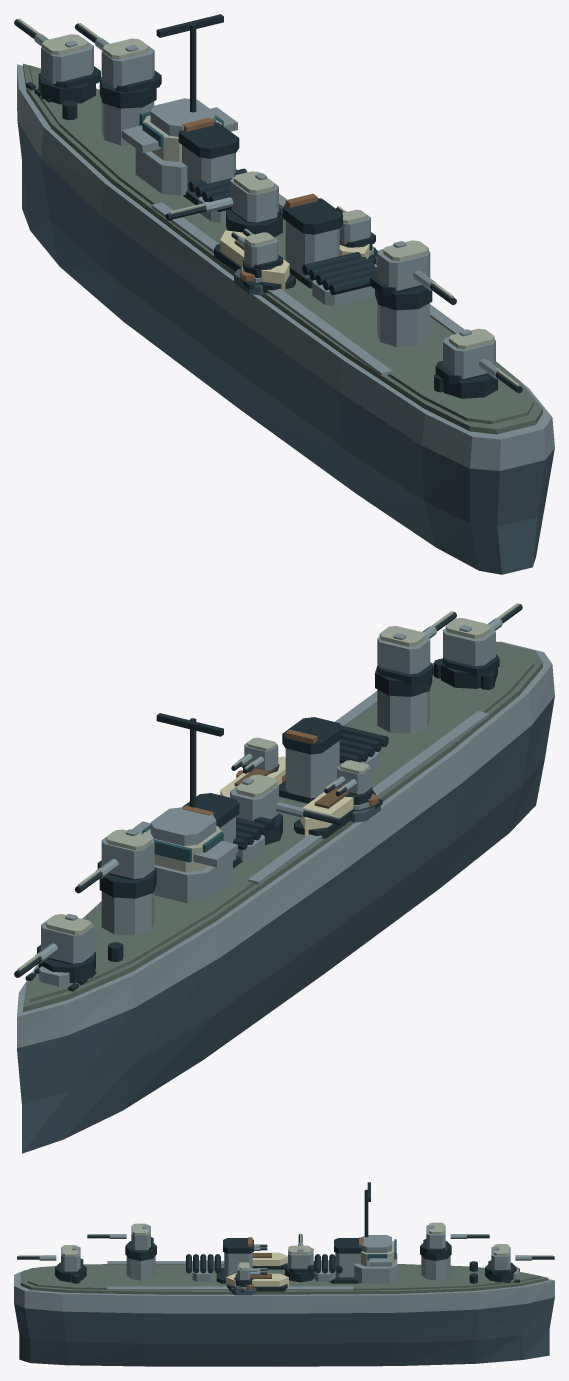
The model's file is historic-benson.glb.
3 views of the same model, one above another, from view 1: azimuth 30°, elevation 25°; view 2: azimuth 150°, elevation 25°; view 3: azimuth 270°, elevation 25° (orthographic). The views are drawn at different scales.
Parts seen in each view (by area): view 1: historic-benson-historic-benson-geometry, historic-benson-part_bridge.130-geometry, historic-benson-turret_main_1.092-geometry, historic-benson-turret_main_3.053-geometry, historic-benson-turret_main_0.099-geometry, historic-benson-turret_main_4.018-geometry, historic-benson-historic_funnel_1.068-geometry, historic-benson-turret_main_2.078-geometry, historic-benson-historic_funnel_0.123-geometry, historic-benson-torpedo_bank_0.039-geometry, historic-benson-turret_aa_aa-port.132-geometry, historic-benson-turret_aa_aa-starboard.128-geometry (+1 smaller); view 2: historic-benson-historic-benson-geometry, historic-benson-part_bridge.130-geometry, historic-benson-historic_funnel_1.068-geometry, historic-benson-turret_main_3.053-geometry, historic-benson-turret_main_1.092-geometry, historic-benson-turret_main_4.018-geometry, historic-benson-turret_main_0.099-geometry, historic-benson-turret_main_2.078-geometry, historic-benson-historic_funnel_0.123-geometry, historic-benson-torpedo_bank_0.039-geometry, historic-benson-turret_aa_aa-port.132-geometry, historic-benson-torpedo_bank_1.036-geometry (+1 smaller); view 3: historic-benson-historic-benson-geometry, historic-benson-part_bridge.130-geometry, historic-benson-historic_funnel_0.123-geometry, historic-benson-turret_main_1.092-geometry, historic-benson-turret_main_3.053-geometry, historic-benson-turret_main_0.099-geometry, historic-benson-turret_main_4.018-geometry, historic-benson-historic_funnel_1.068-geometry, historic-benson-turret_main_2.078-geometry, historic-benson-torpedo_bank_0.039-geometry, historic-benson-torpedo_bank_1.036-geometry, historic-benson-turret_aa_aa-starboard.128-geometry.
Boxes of the visible parts, x1,y1,x2,y2 form: historic-benson-historic-benson-geometry: (17,63,554,574); historic-benson-part_bridge.130-geometry: (121,14,237,195); historic-benson-turret_main_1.092-geometry: (74,23,161,108); historic-benson-turret_main_3.053-geometry: (370,240,456,310); historic-benson-turret_main_0.099-geometry: (14,18,100,104); historic-benson-turret_main_4.018-geometry: (435,328,522,398); historic-benson-historic_funnel_1.068-geometry: (282,193,342,288); historic-benson-turret_main_2.078-geometry: (165,171,282,236); historic-benson-historic_funnel_0.123-geometry: (178,117,239,204); historic-benson-torpedo_bank_0.039-geometry: (302,252,377,305); historic-benson-turret_aa_aa-port.132-geometry: (231,229,283,277); historic-benson-turret_aa_aa-starboard.128-geometry: (336,206,375,250); historic-benson-historic-benson-geometry: (17,641,554,1153); historic-benson-part_bridge.130-geometry: (132,713,237,903); historic-benson-historic_funnel_1.068-geometry: (279,717,342,803); historic-benson-turret_main_3.053-geometry: (375,611,456,696); historic-benson-turret_main_1.092-geometry: (74,829,156,898); historic-benson-turret_main_4.018-geometry: (441,603,522,688); historic-benson-turret_main_0.099-geometry: (14,914,95,983); historic-benson-turret_main_2.078-geometry: (230,774,343,845); historic-benson-historic_funnel_0.123-geometry: (182,793,242,868); historic-benson-torpedo_bank_0.039-geometry: (339,725,388,772); historic-benson-turret_aa_aa-port.132-geometry: (324,760,372,804); historic-benson-torpedo_bank_1.036-geometry: (233,817,274,860); historic-benson-historic-benson-geometry: (14,1252,554,1366); historic-benson-part_bridge.130-geometry: (354,1182,397,1283); historic-benson-historic_funnel_0.123-geometry: (329,1237,363,1283); historic-benson-turret_main_1.092-geometry: (420,1222,489,1260); historic-benson-turret_main_3.053-geometry: (87,1223,156,1260); historic-benson-turret_main_0.099-geometry: (485,1244,554,1282); historic-benson-turret_main_4.018-geometry: (17,1245,86,1282); historic-benson-historic_funnel_1.068-geometry: (216,1237,253,1283); historic-benson-turret_main_2.078-geometry: (285,1233,314,1282); historic-benson-torpedo_bank_0.039-geometry: (186,1254,220,1281); historic-benson-torpedo_bank_1.036-geometry: (307,1254,342,1281); historic-benson-turret_aa_aa-starboard.128-geometry: (234,1262,267,1286).
Bounding box in the file's own units: 0.721 × 1.39 × 4.11.
